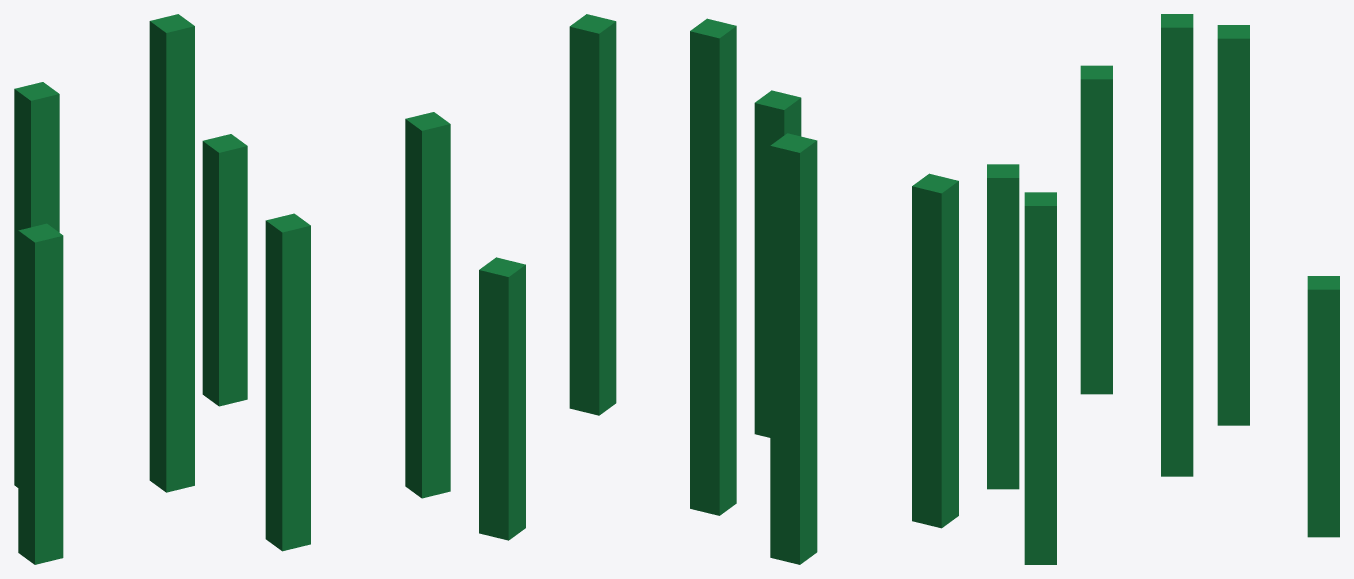
Rendered from tall_grass.fbx.
3 views of the same model, side by side, from view 1: azimuth 30°, elevation 25°; view 2: azimuth 150°, elevation 25°; view 3: azimuth 270°, elevation 25° (orthographic). The views are drawn at different scales.
Visible parts, largest first — view 1: Stalk 1, Stalk 4, Stalk 6, Stalk 5, Stalk 2, Stalk 3; view 2: Stalk 1, Stalk 3, Stalk 4, Stalk 6, Stalk 2, Stalk 5; view 3: Stalk 1, Stalk 3, Stalk 4, Stalk 6, Stalk 5, Stalk 2.
Boxes of the visible parts, x1,y1,x2,y2 form: Stalk 1: (149,14,194,492); Stalk 4: (405,112,450,498); Stalk 6: (18,223,63,564); Stalk 5: (265,213,310,551); Stalk 2: (202,134,247,406); Stalk 3: (14,82,59,487); Stalk 1: (690,18,736,515); Stalk 3: (770,133,817,564); Stalk 4: (569,14,616,415); Stalk 6: (912,173,958,528); Stalk 2: (479,257,525,540); Stalk 5: (754,90,801,437); Stalk 1: (1161,14,1193,476); Stalk 3: (1217,25,1249,425); Stalk 4: (1024,192,1056,564); Stalk 6: (1080,65,1112,394); Stalk 5: (987,164,1019,489); Stalk 2: (1307,276,1339,537).
Size of the model in its own units: 135 by 153 by 109.
